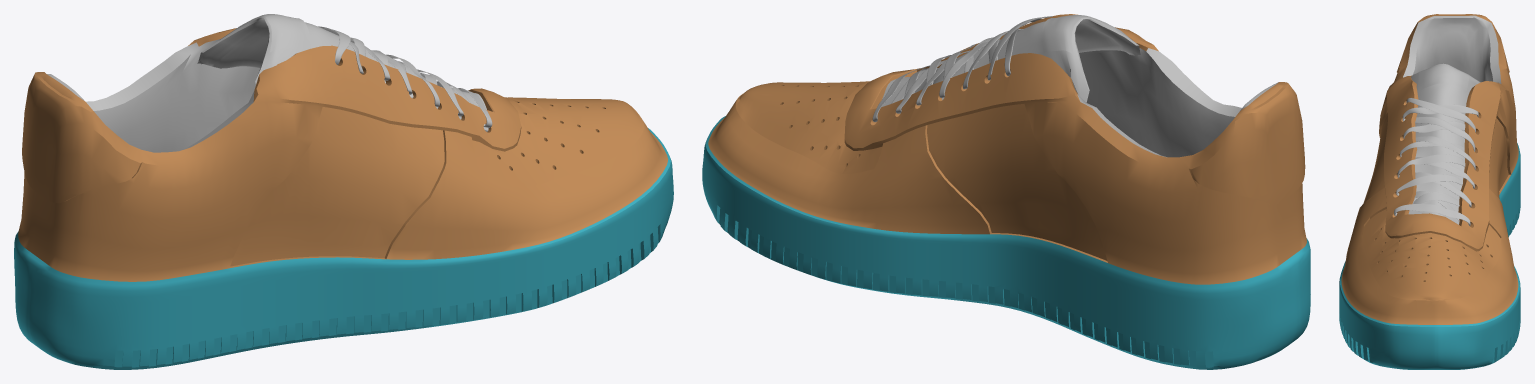
Rendered from shoe.glb.
3 renders of one model, left to right at view 1: azimuth 30°, elevation 25°; view 2: azimuth 150°, elevation 25°; view 3: azimuth 270°, elevation 25°, orthographic. The views are drawn at different scales.
Parts seen in each view (by area): view 1: Nike_Air_Force_Right, Big_Shoe_Flap, Laces, Small_Shoe_Flap; view 2: Nike_Air_Force_Right, Big_Shoe_Flap, Laces, Small_Shoe_Flap; view 3: Nike_Air_Force_Right, Laces, Big_Shoe_Flap, Small_Shoe_Flap.
Part boxes in pixels (box(x1,y1,x2,y2)): Nike_Air_Force_Right: box(14, 28, 673, 369); Big_Shoe_Flap: box(197, 16, 488, 131); Laces: box(318, 26, 492, 127); Small_Shoe_Flap: box(239, 14, 311, 52); Nike_Air_Force_Right: box(702, 14, 1310, 369); Big_Shoe_Flap: box(882, 17, 1140, 106); Laces: box(872, 16, 1052, 122); Small_Shoe_Flap: box(1042, 15, 1110, 54); Nike_Air_Force_Right: box(1339, 14, 1520, 369); Laces: box(1394, 98, 1478, 225); Big_Shoe_Flap: box(1408, 72, 1480, 224); Small_Shoe_Flap: box(1418, 63, 1469, 91).
Size of the model in its own units: 0.4826 by 0.2167 by 0.1792.
